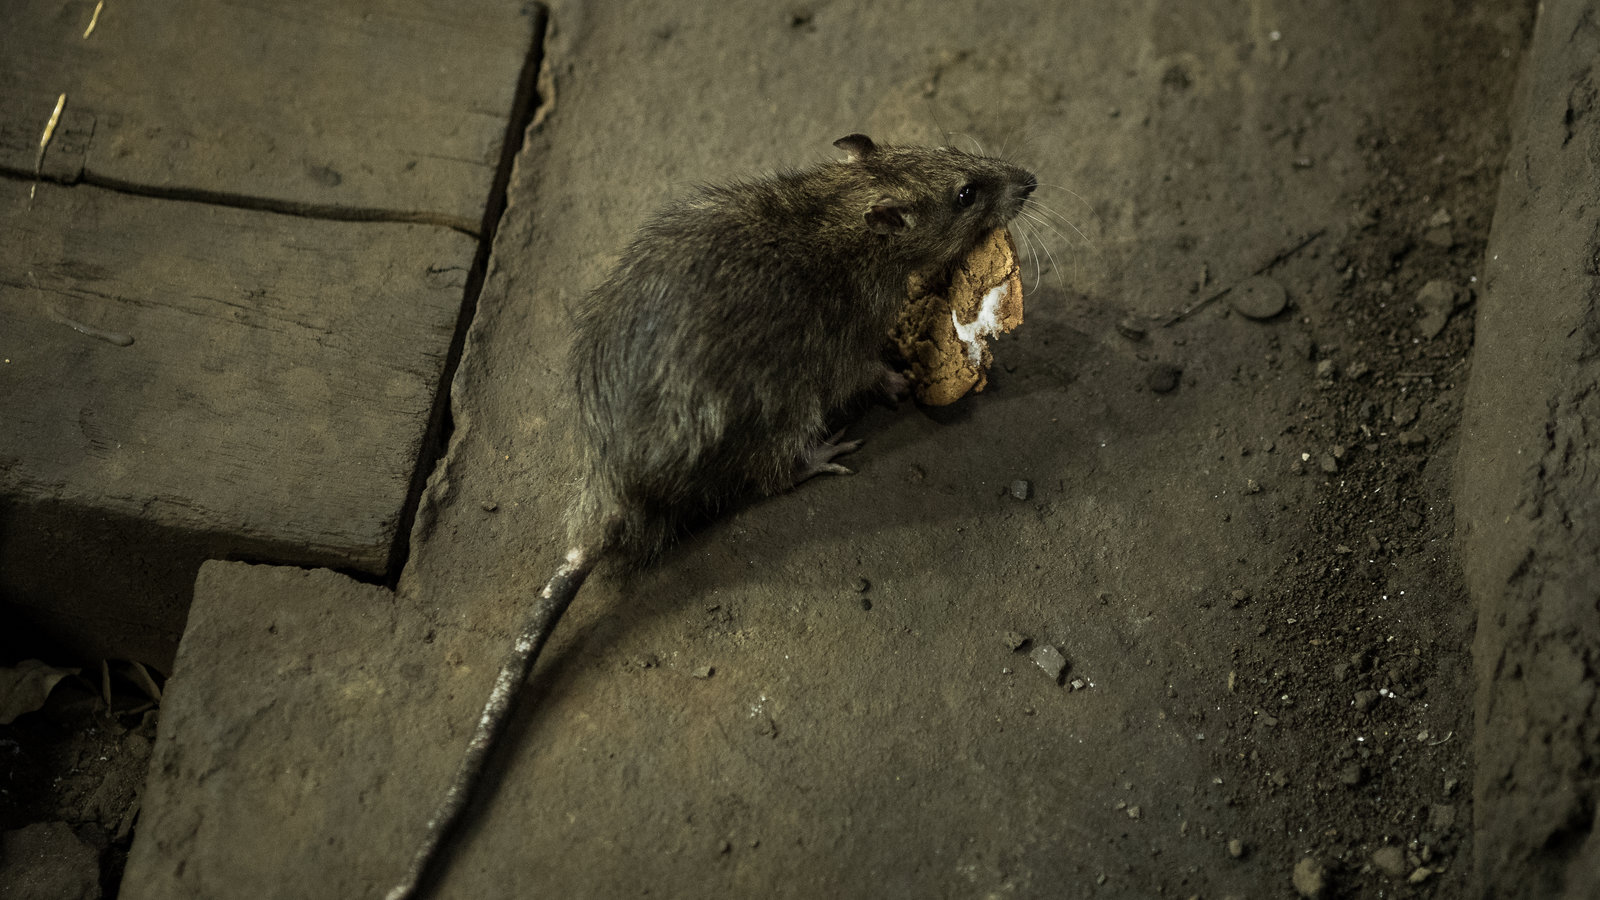Rat: (485, 119, 1109, 619)
